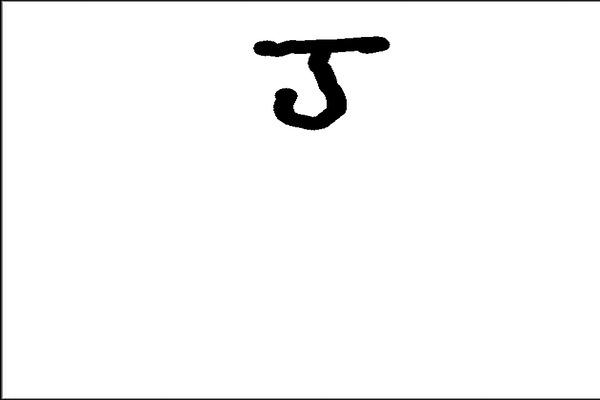J: (244, 29, 396, 137)
